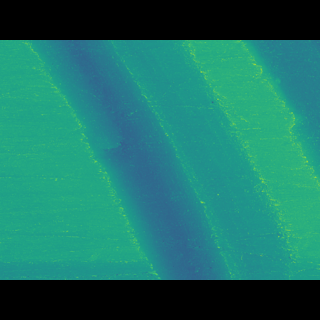Loch: (23, 69, 242, 250), (244, 70, 319, 177)
